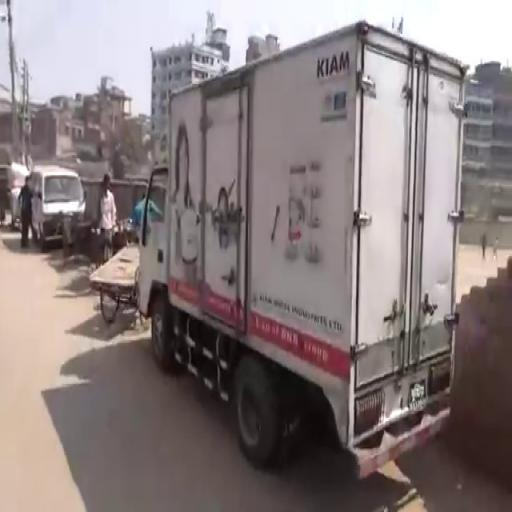pickup: (130, 16, 466, 469)
van: (26, 159, 89, 250)
